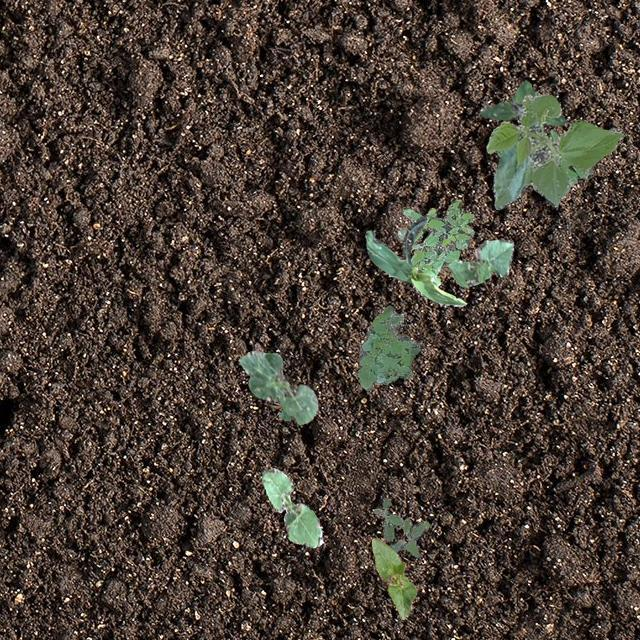crop: (486, 92, 622, 208), (364, 214, 466, 306), (238, 349, 316, 424), (260, 468, 322, 546), (371, 536, 416, 618), (446, 238, 514, 286)
weed: (396, 198, 474, 286), (496, 128, 592, 198), (356, 304, 420, 390), (478, 80, 566, 126), (372, 499, 428, 556)
